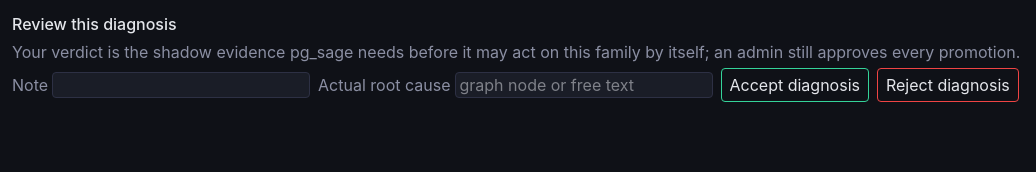
Test case: InvestigationReview › shows the server error and keeps the form
Click the button "Reject diagnosis": click(948, 85) [877,68,1019,102]
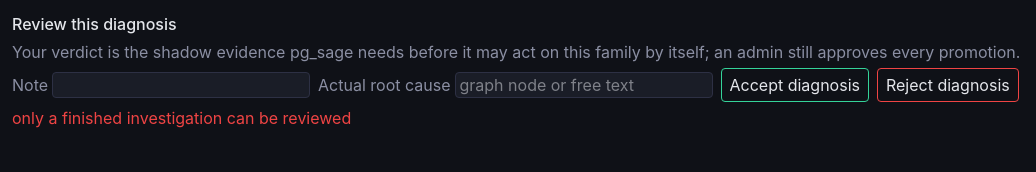
Result: the message shows "finished investigation" at [12,108,351,128]
